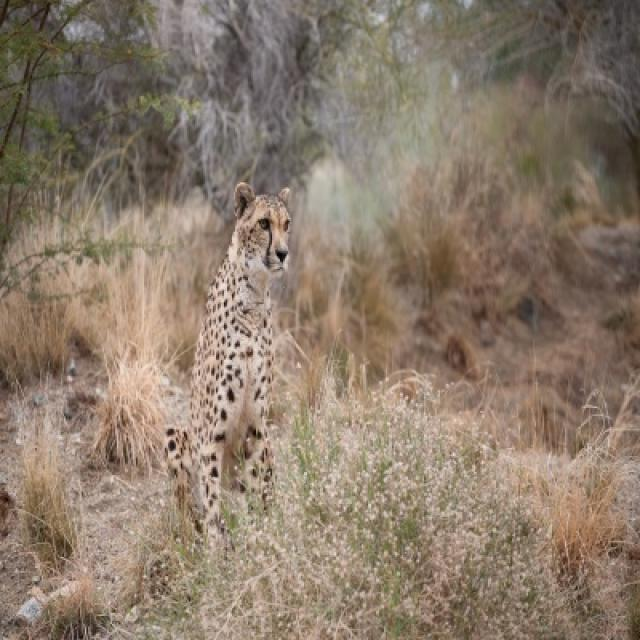Cheetah: (165, 181, 290, 539)
